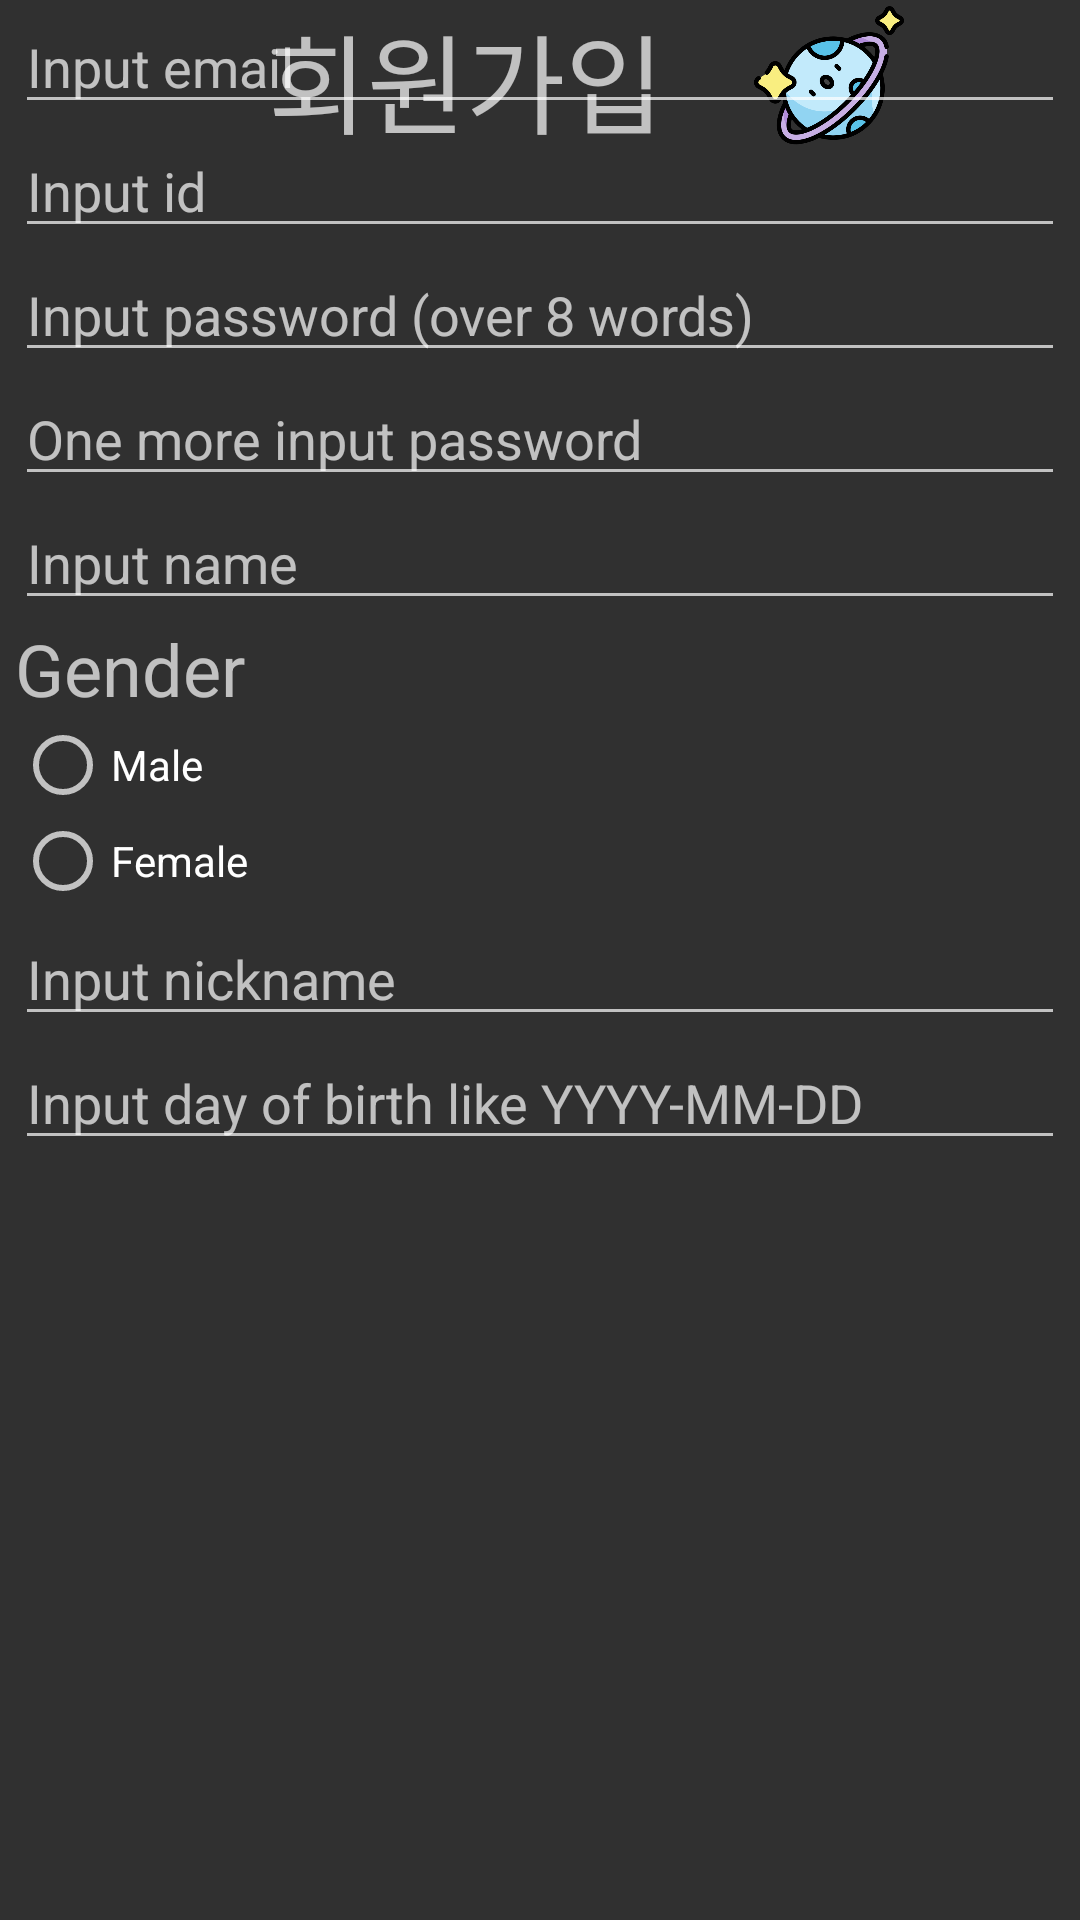

Icons on this 1080 × 1920 Android screen, each with its box as rect(x1, y1, x2, y2):
planet reg: rect(754, 6, 904, 144)
